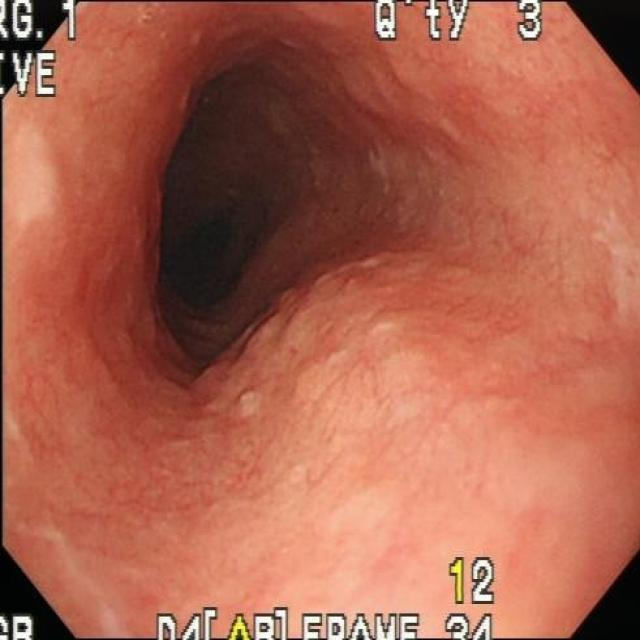B: (202, 252, 537, 490)
E: (155, 109, 285, 312)
S: (156, 608, 495, 640), (370, 3, 546, 48), (2, 3, 78, 100), (450, 557, 498, 607), (2, 611, 35, 640)
